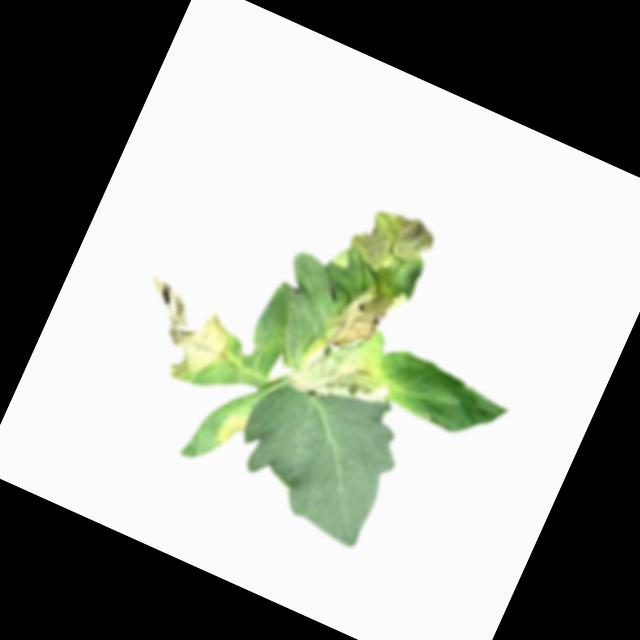Late_blight: (116, 271, 248, 397), (284, 305, 413, 427), (332, 192, 442, 296), (341, 274, 411, 337), (210, 406, 251, 454)
healthy: (216, 352, 418, 552)
